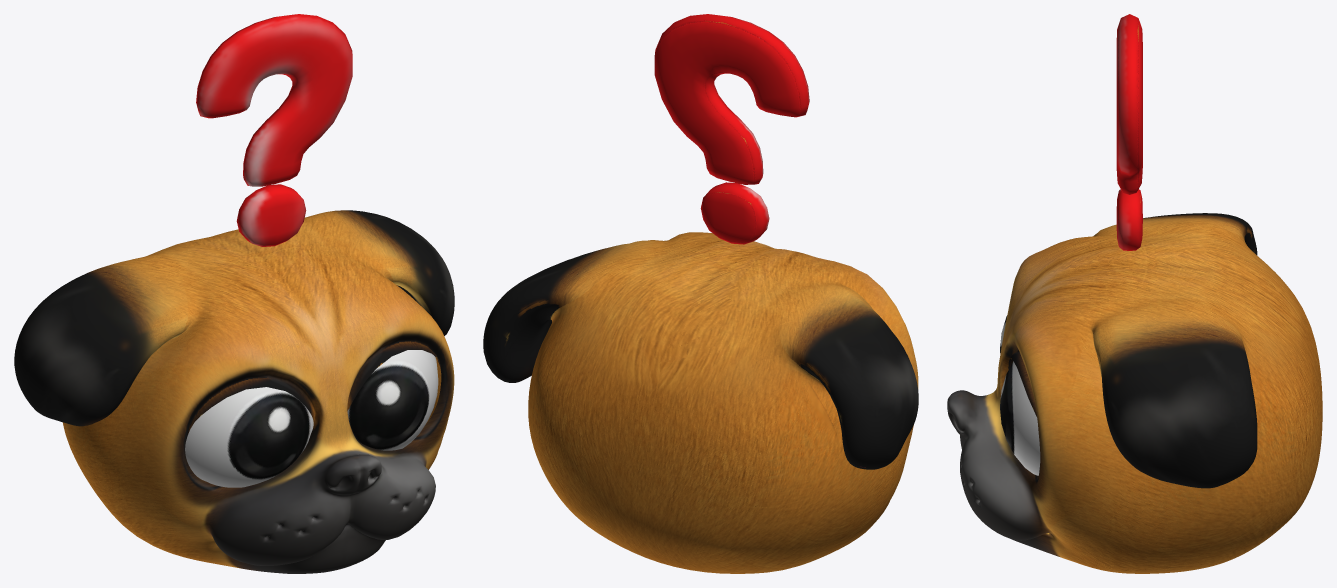
The model's file is 3D ROARINGAPACA.glb.
3 views of the same model, side by side, from view 1: azimuth 30°, elevation 25°; view 2: azimuth 150°, elevation 25°; view 3: azimuth 270°, elevation 25° (orthographic).
Visible parts, largest first — view 1: Cube.004; view 2: Cube.004; view 3: Cube.004.
Boxes of the visible parts, x1=… form: Cube.004: x1=14, y1=14, x2=454, y2=573; Cube.004: x1=483, y1=14, x2=918, y2=573; Cube.004: x1=947, y1=14, x2=1322, y2=573.
Size of the model in its own units: 0.6784 by 0.8325 by 0.5412.
1 material, 1 textured.
